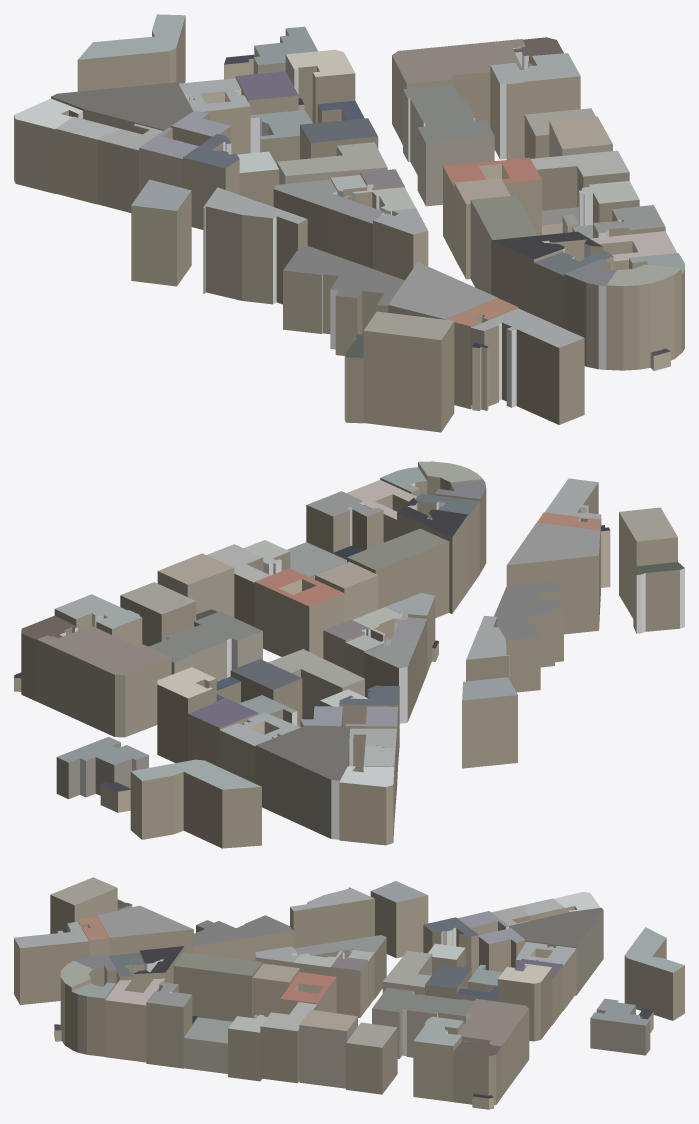
3 renders of one model, top to bottom at view 1: azimuth 30°, elevation 25°; view 2: azimuth 150°, elevation 25°; view 3: azimuth 270°, elevation 25°, orthographic. The views are drawn at different scales.
Parts seen in each view (by area): view 1: tuile; view 2: tuile; view 3: tuile.
Part boxes in pixels (x1,y1,x2,y2): tuile: (14, 14, 684, 432); tuile: (14, 461, 684, 848); tuile: (14, 877, 684, 1109).
Bounding box in the file's own units: 167 × 30.33 × 265.
